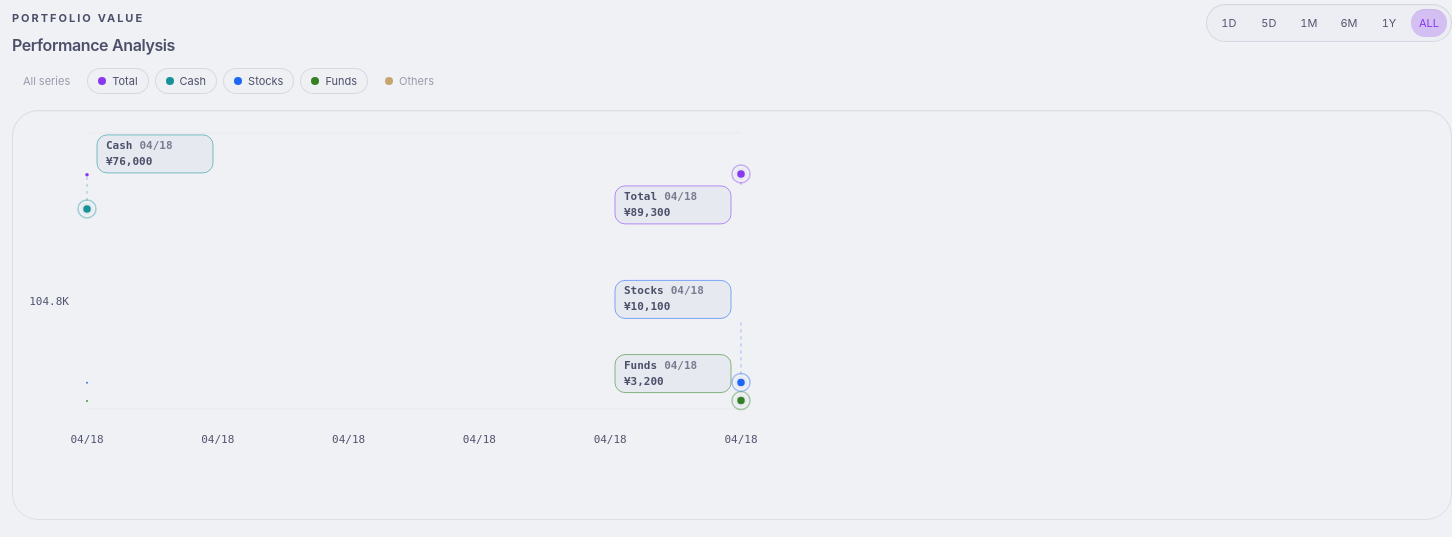
Test: shows intraday category change against the session baseline
This screenshot has width=1452, height=537.
Click the button named "Range: 1D" at (1229,23), box [1211,9,1247,37]
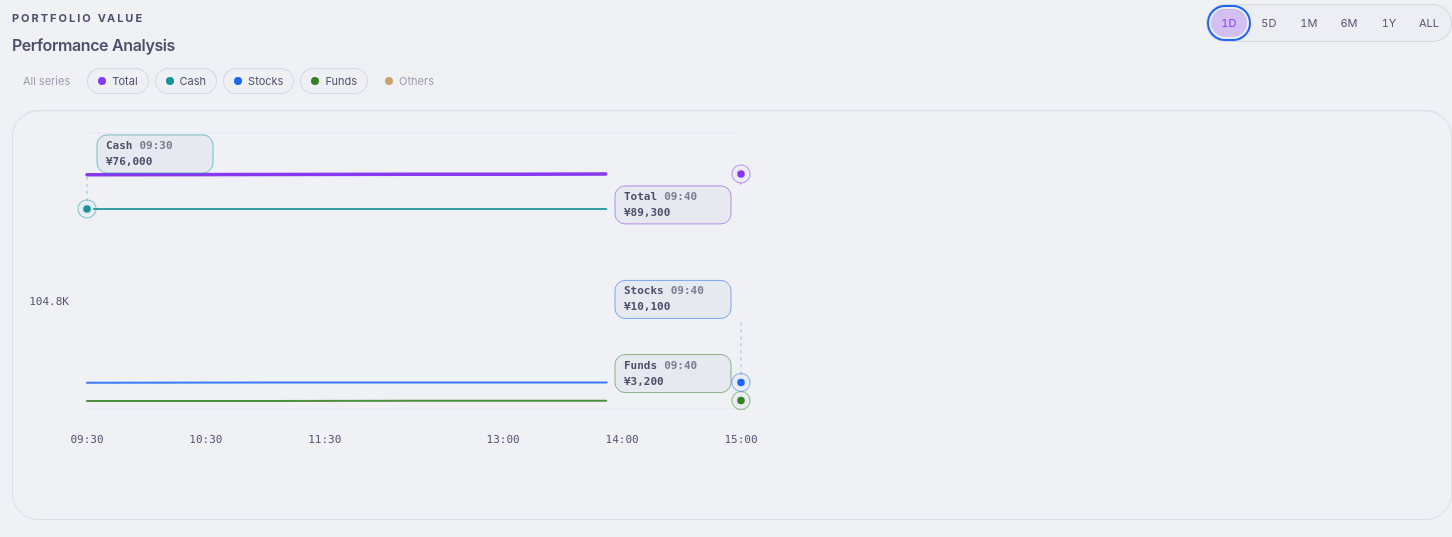
Click the button "Total" at (118,81), box [87,68,148,94]
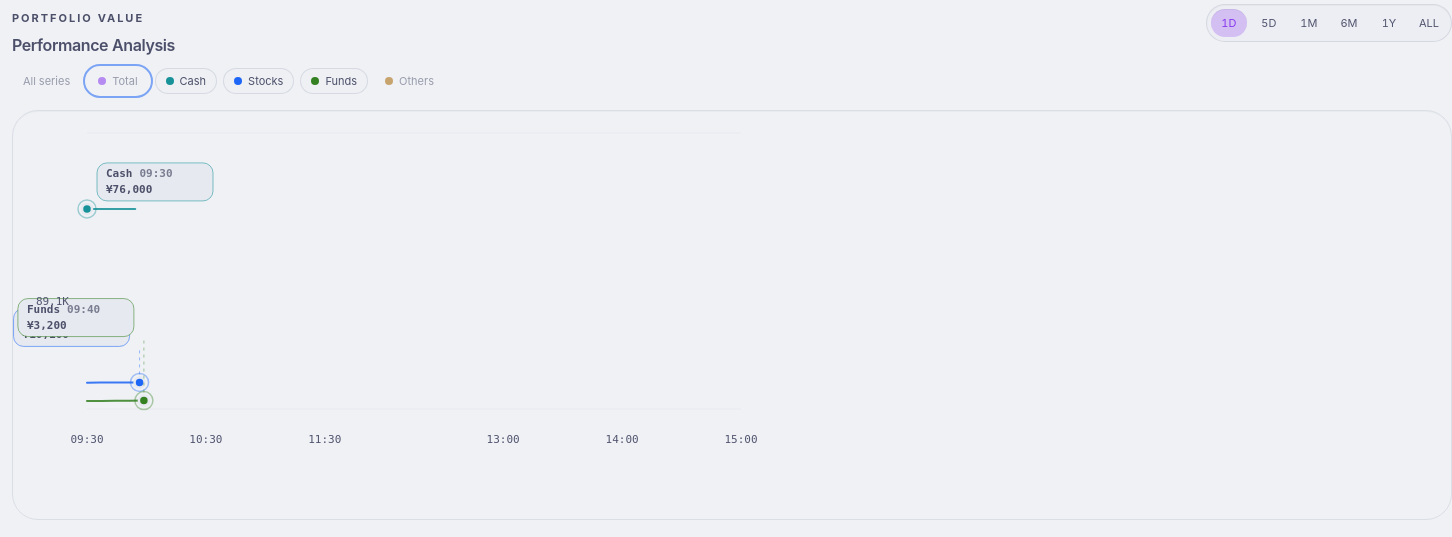
Click the button "Cash" at (186,81), box [155,68,217,94]
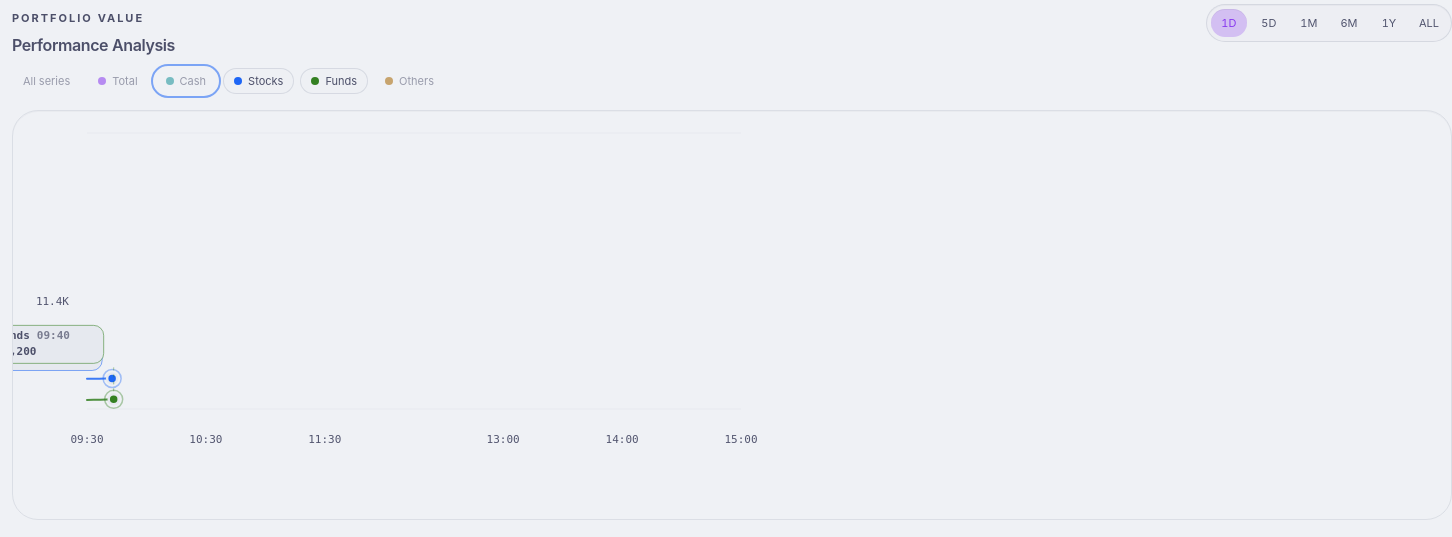
Click the button "Funds" at (334,81), box [300,68,368,94]
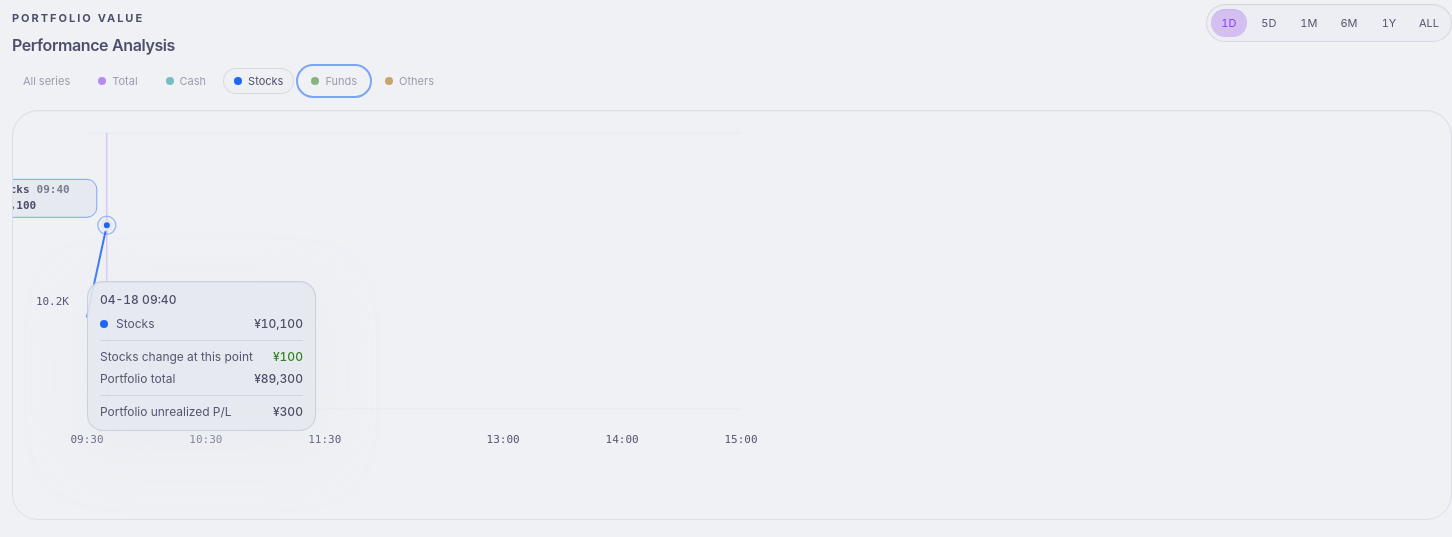
Check: the icon with class "recharts-surface" is shown, box [13,111,813,491]
Check: the element with class "recharts-tooltip-wrapper" shows "Stocks change at this point", box [100,349,253,364]
Check: the element with class "recharts-tooltip-wrapper" shows "¥100", box [273,349,303,364]
